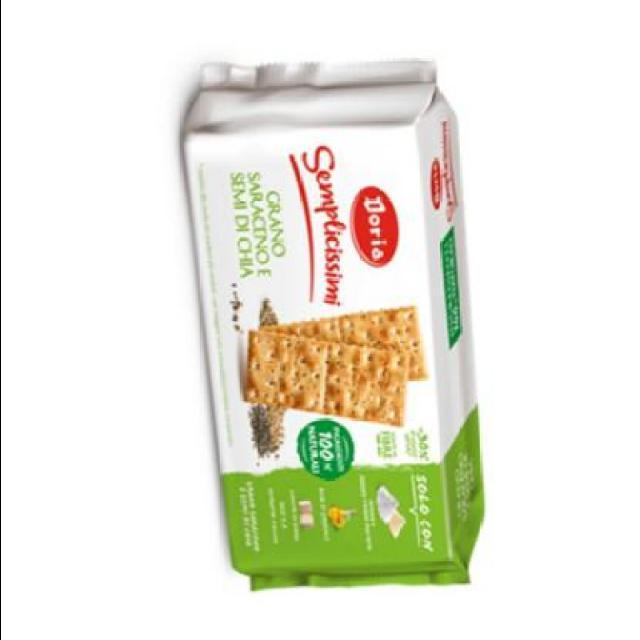Cracker: (190, 58, 481, 598)
